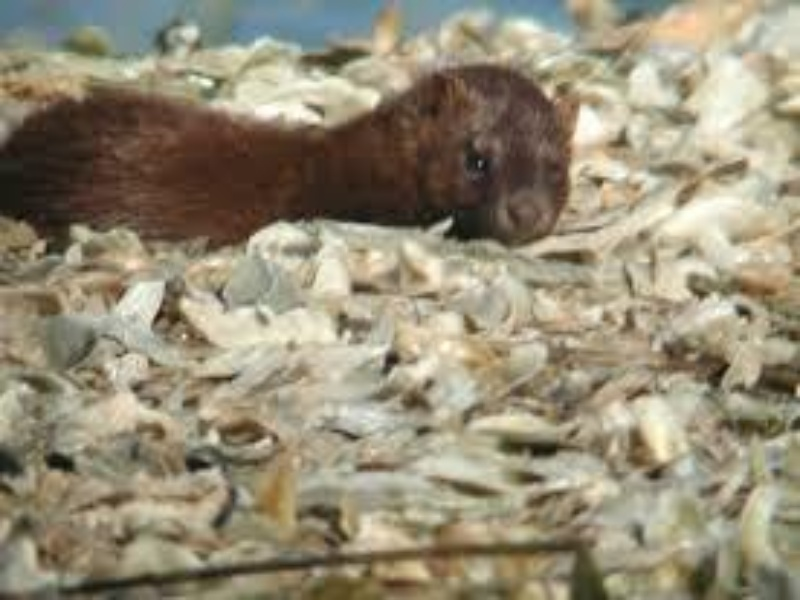minkish: (1, 65, 586, 257)
